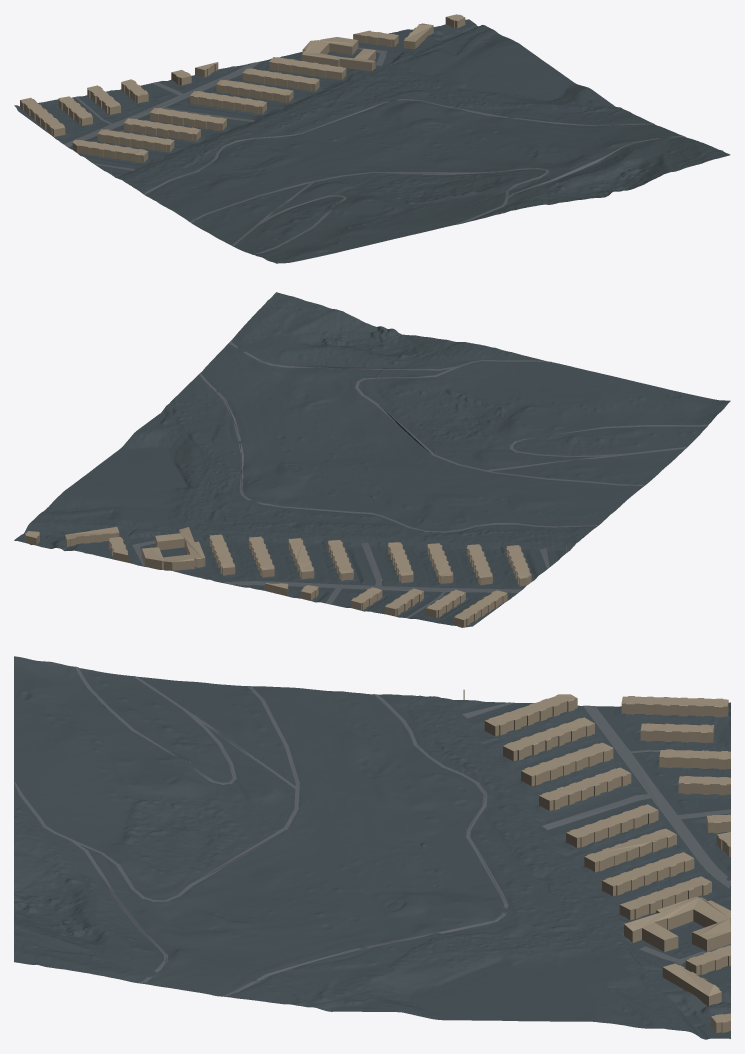
File: epsg26910-1435-10870.lod0.glb
The picture shows the model from 3 angles, top to bottom: view 1: azimuth 30°, elevation 25°; view 2: azimuth 150°, elevation 25°; view 3: azimuth 270°, elevation 25°; orthographic projection. The views are drawn at different scales.
Visible parts, largest first — view 1: epsg26910-1435-10870-lod0; view 2: epsg26910-1435-10870-lod0; view 3: epsg26910-1435-10870-lod0.
Boxes of the visible parts, x1=… form: epsg26910-1435-10870-lod0: x1=14, y1=14, x2=730, y2=263; epsg26910-1435-10870-lod0: x1=14, y1=292, x2=730, y2=627; epsg26910-1435-10870-lod0: x1=14, y1=656, x2=730, y2=1039.
Bounding box in the file's own units: 384 × 47.5 × 384.
